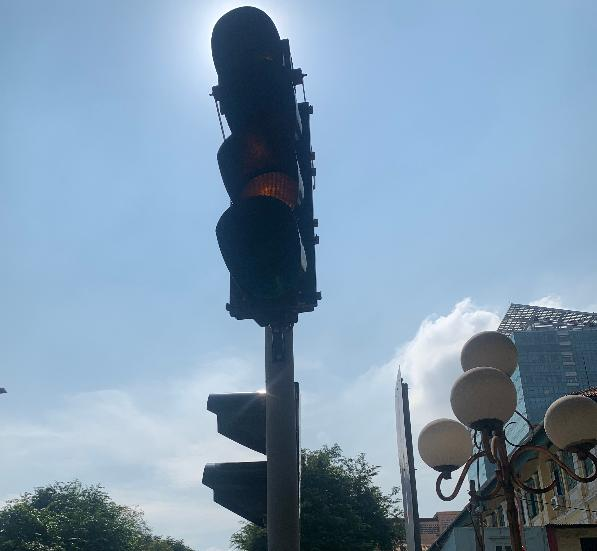yellow_light: (216, 56, 322, 313)
